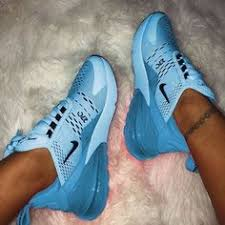nike: (60, 137, 79, 167), (155, 82, 174, 105)
